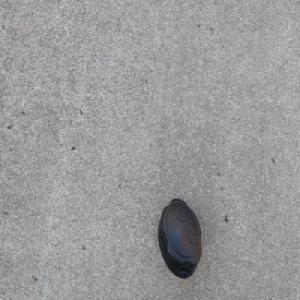FuelCap: (156, 196, 202, 281)
